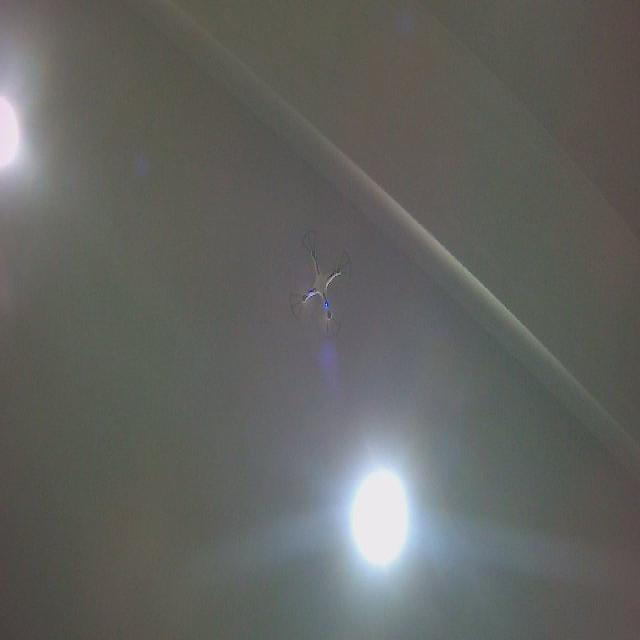drone: (286, 227, 355, 342)
